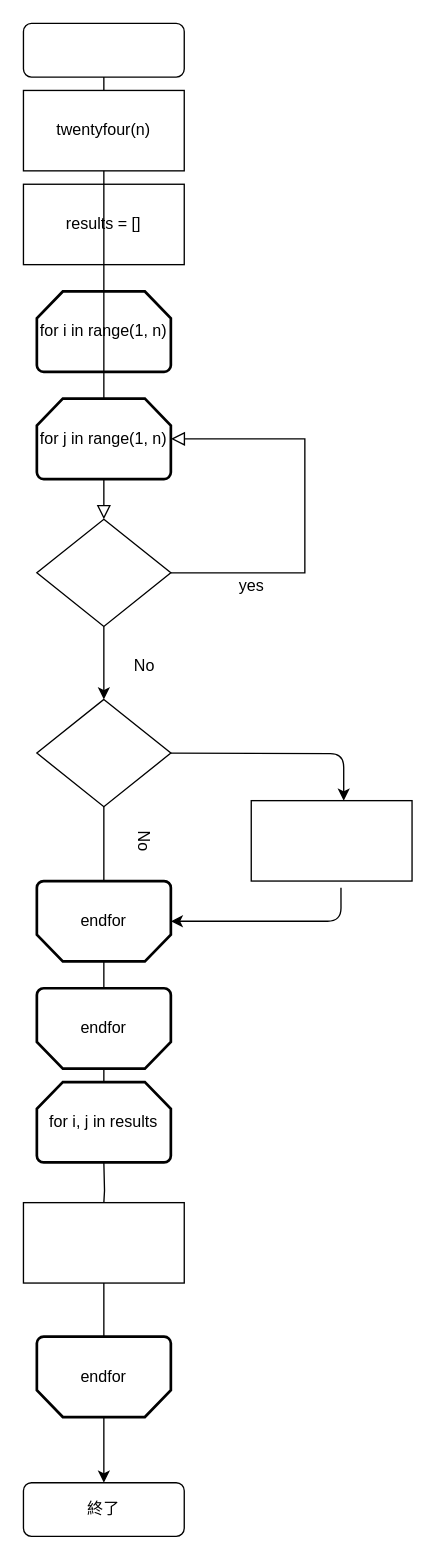
Some shapes in this 436 by 1560 pixel diagram are drawn without their labels. The centre of each missing label's shape, as x and y in pixels:
i * j == 24: (x=103, y=752)
i * j > 24: (x=103, y=572)
print(i, j): (x=103, y=1242)
results.append([i, j]): (x=331, y=840)
開始: (x=103, y=49)
